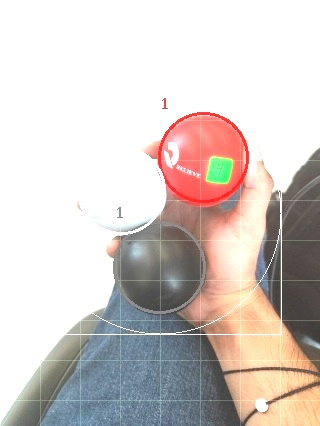Pelota blanca: (74, 145, 166, 235)
Pelota negra: (111, 220, 206, 315)
Pelota roja: (156, 110, 249, 206), (103, 236, 121, 259)
